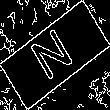N_SE: (28, 23, 82, 87)
